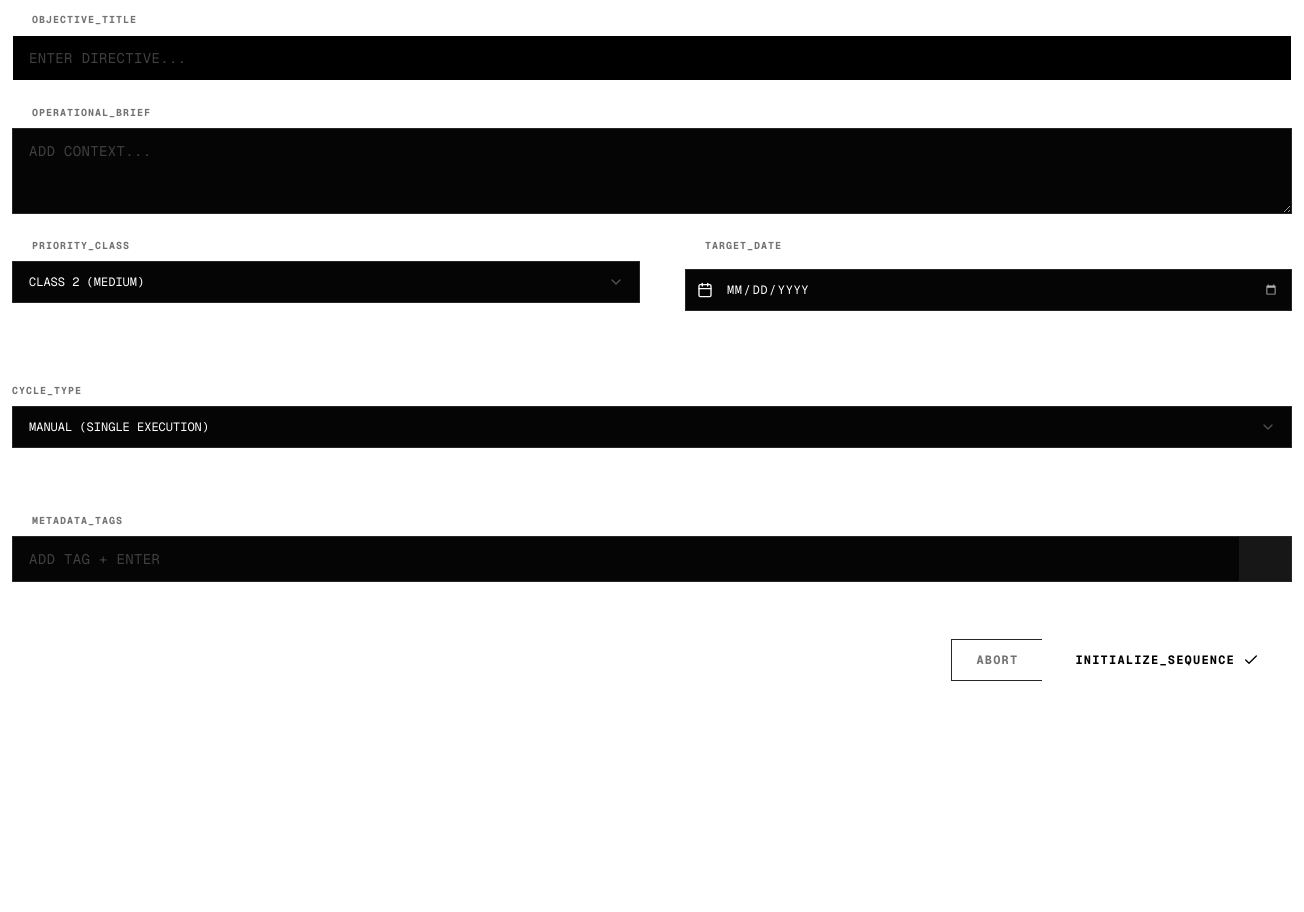
TaskForm Component › Tags Management › adds tag when Enter is pressed
Type "work" into the field with placeholder "ADD TAG + ENTER" at coordinates (626, 559), box [12,536,1239,582]
Then press Enter
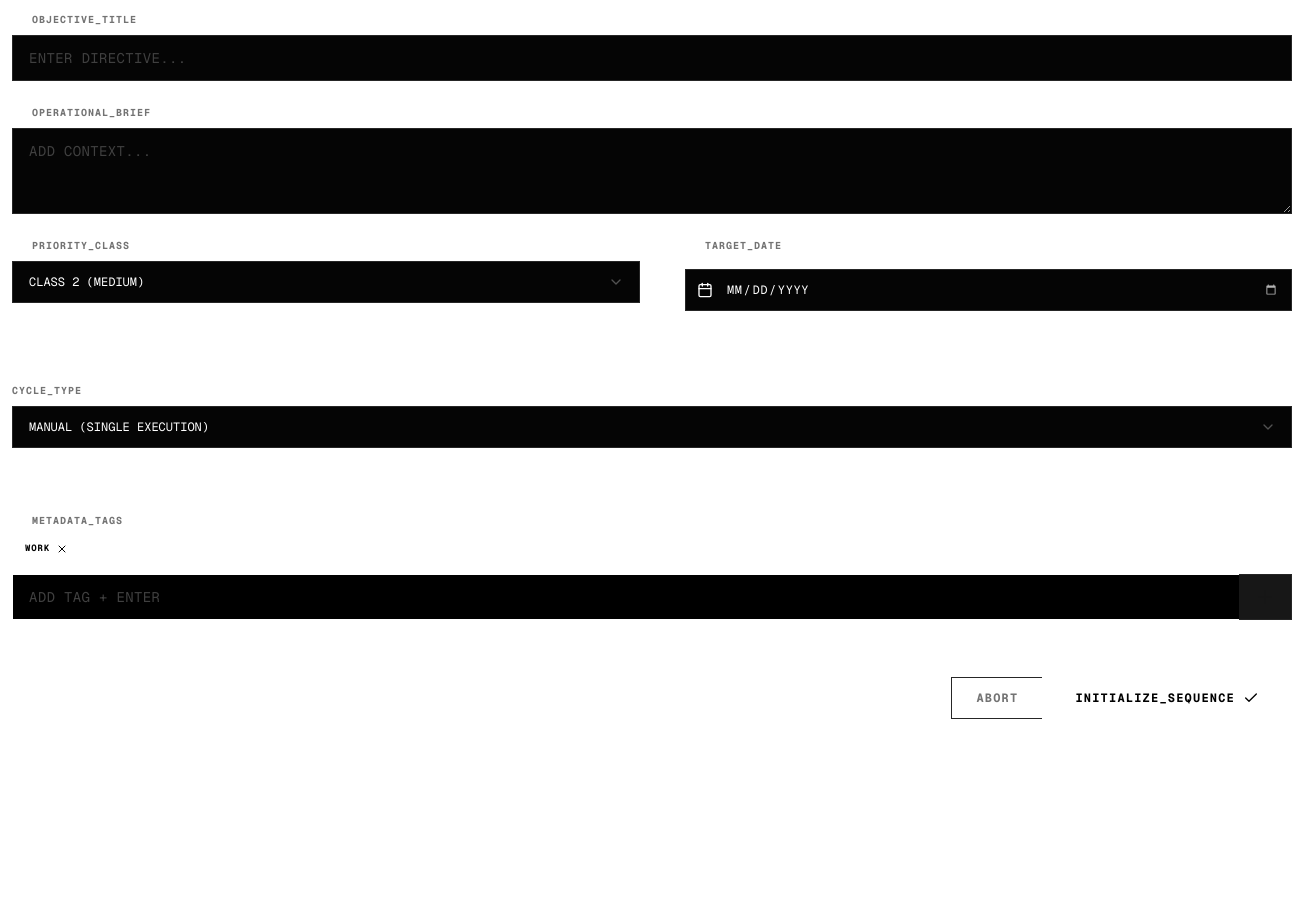
Expected: the field with placeholder "ADD TAG + ENTER" is empty, [12,574,1239,620]
Now the text "work" is shown, box [12,536,79,562]
